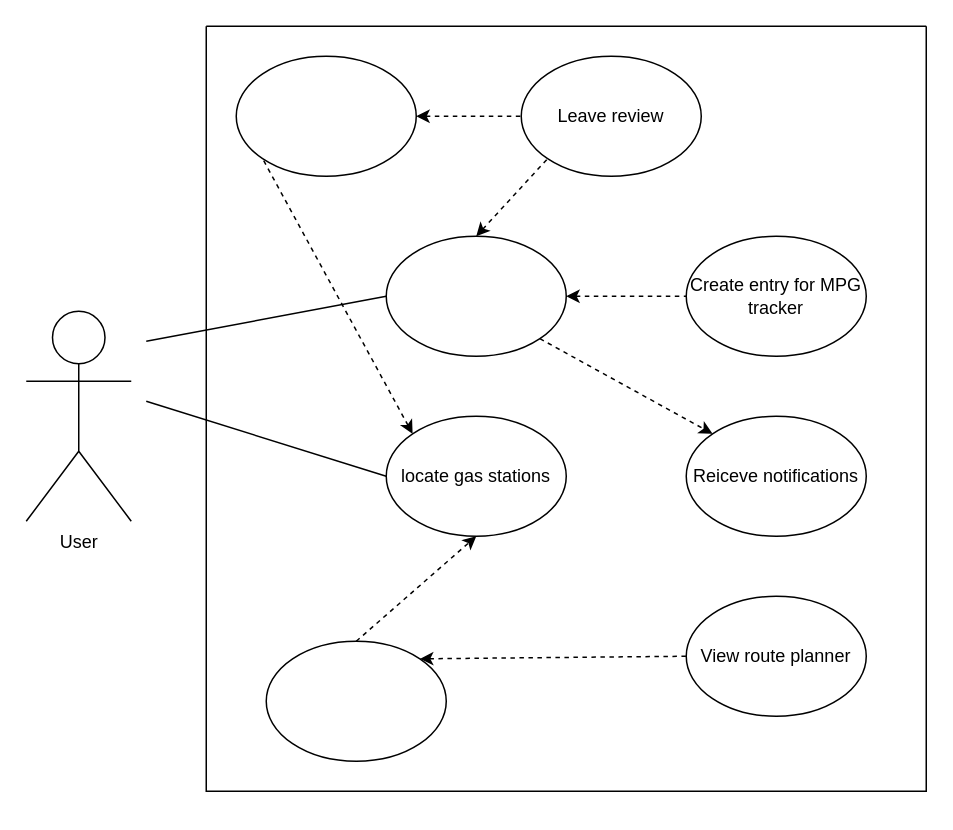
Some shapes in this 953 by 830 pixel diagram are drawn without their labels. Here are the shapes that lost their labels. From the top down, the centre of each, then its label:
At point (325, 115): "View Gas station information".
At point (475, 295): "Create user account".
At point (355, 700): "View GPS directions".
